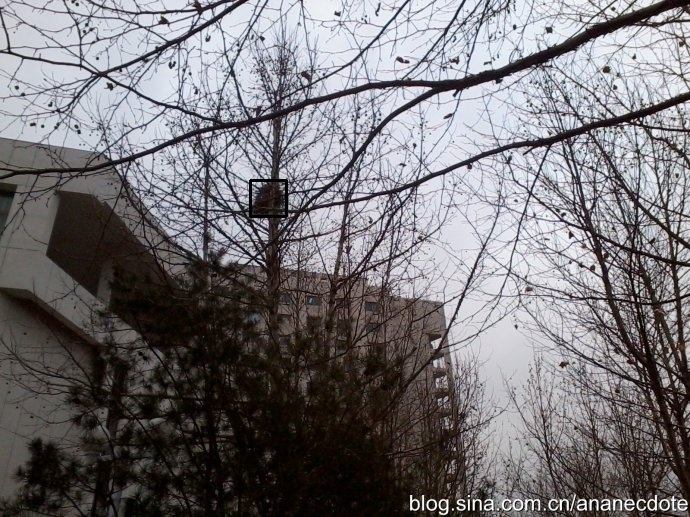bird-nest: (243, 179, 288, 222)
